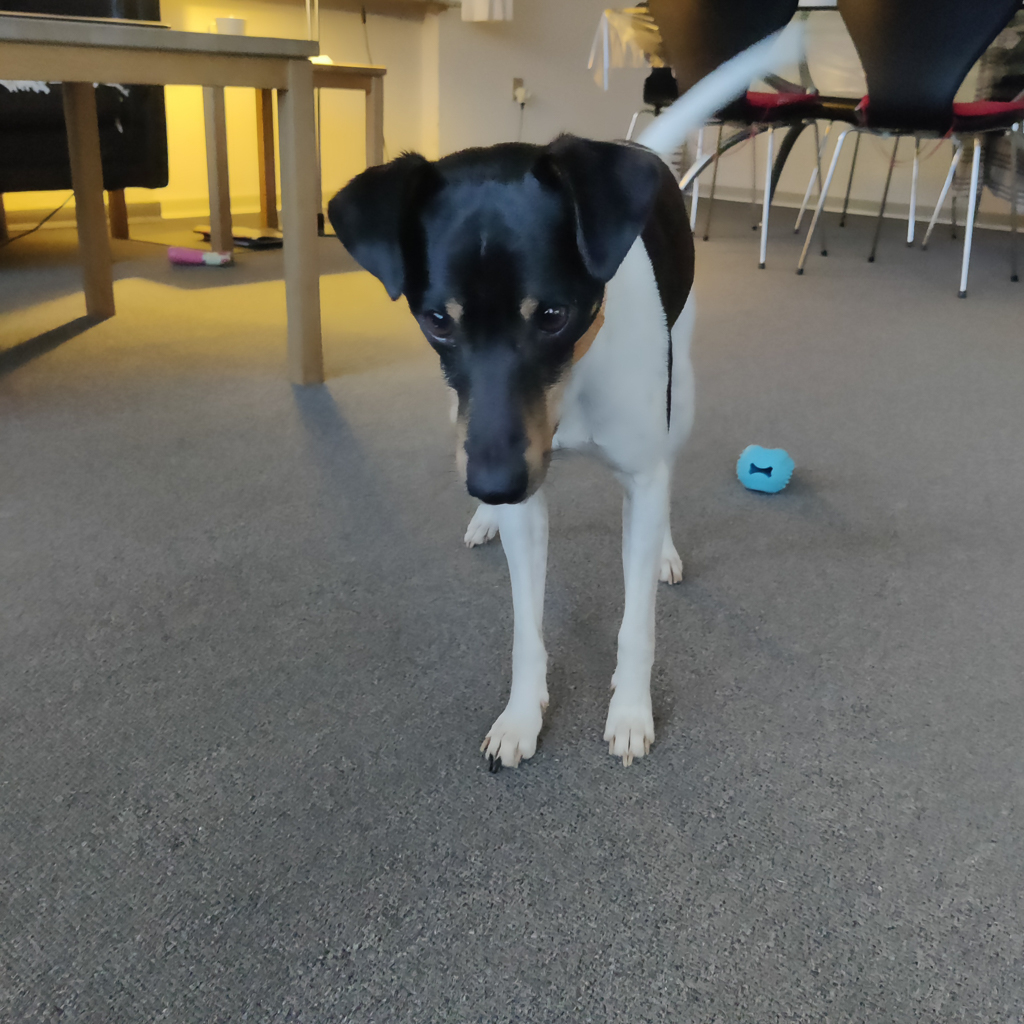Dog: (293, 12, 831, 798)
